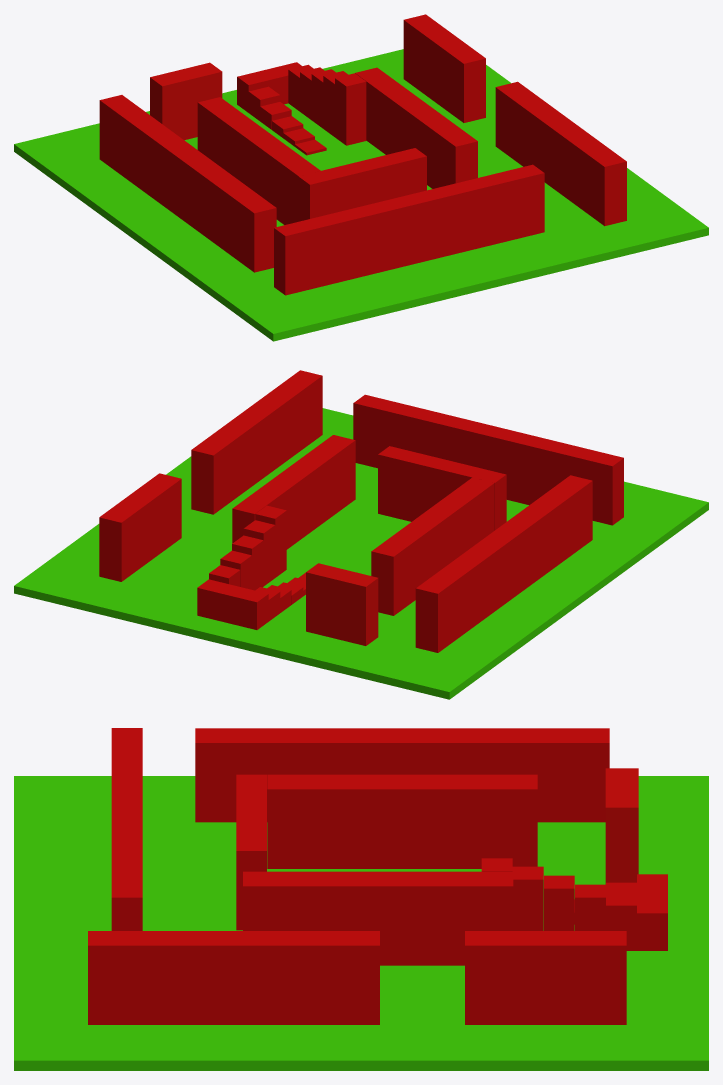
Rendered from Newstage.obj.
3 renders of one model, top to bottom at view 1: azimuth 30°, elevation 25°; view 2: azimuth 150°, elevation 25°; view 3: azimuth 270°, elevation 25°, orthographic. The views are drawn at different scales.
Visible parts, largest first — view 1: Cube, Cube.017, Cube.018, Cube.019, Cube.003, Cube.002, Cube.020, Cube.016, Cube.021, Cube.015, Cube.014, Cube.013 (+6 smaller); view 2: Cube, Cube.017, Cube.018, Cube.019, Cube.002, Cube.003, Cube.020, Cube.016, Cube.021, Cube.008, Cube.015, Cube.014 (+4 smaller); view 3: Cube, Cube.019, Cube.002, Cube.018, Cube.003, Cube.020, Cube.017, Cube.021, Cube.016, Cube.014, Cube.013, Cube.010 (+2 smaller).
Part boxes in pixels (x1,y1,x2,y2): Cube: (14, 49, 708, 341); Cube.017: (274, 164, 544, 295); Cube.018: (99, 95, 276, 272); Cube.019: (495, 81, 626, 226); Cube.003: (355, 67, 477, 188); Cube.002: (197, 97, 320, 224); Cube.020: (403, 14, 485, 122); Cube.016: (298, 148, 426, 221); Cube.021: (150, 62, 222, 140); Cube.015: (335, 73, 366, 145); Cube.014: (323, 71, 348, 136); Cube.013: (311, 69, 335, 128); Cube: (14, 408, 708, 699); Cube.017: (353, 394, 623, 525); Cube.018: (415, 475, 592, 652); Cube.019: (191, 370, 322, 514); Cube.002: (371, 477, 494, 615); Cube.003: (232, 435, 355, 549); Cube.020: (99, 473, 181, 581); Cube.016: (378, 446, 506, 530); Cube.021: (306, 563, 378, 645); Cube.008: (237, 589, 268, 629); Cube.015: (255, 505, 286, 577); Cube.014: (243, 520, 275, 586); Cube: (14, 776, 708, 1070); Cube.019: (88, 931, 379, 1024); Cube.002: (267, 774, 537, 868); Cube.018: (195, 728, 609, 822); Cube.003: (243, 871, 513, 965); Cube.020: (465, 931, 626, 1024); Cube.017: (111, 728, 142, 930); Cube.021: (605, 768, 638, 884); Cube.016: (236, 774, 266, 930); Cube.014: (512, 866, 543, 930); Cube.013: (544, 875, 574, 930); Cube.010: (637, 900, 667, 950).
Bounding box in the file's own units: 43.55 × 6.39 × 44.92.
